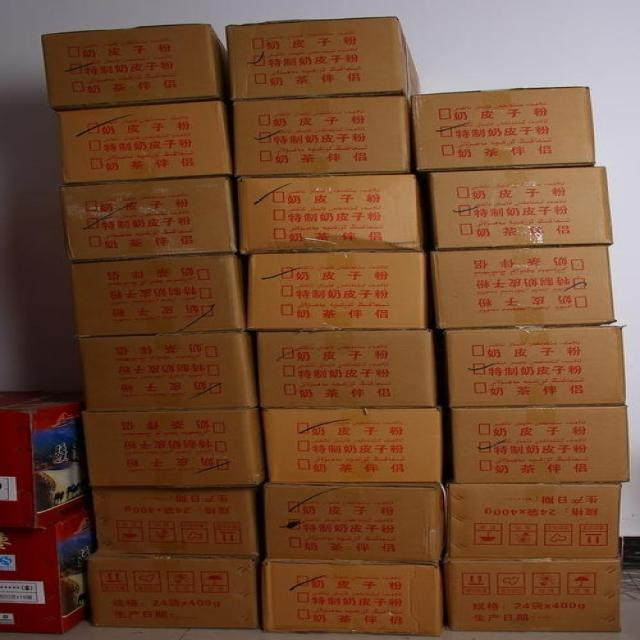Carton: (40, 16, 616, 629)
